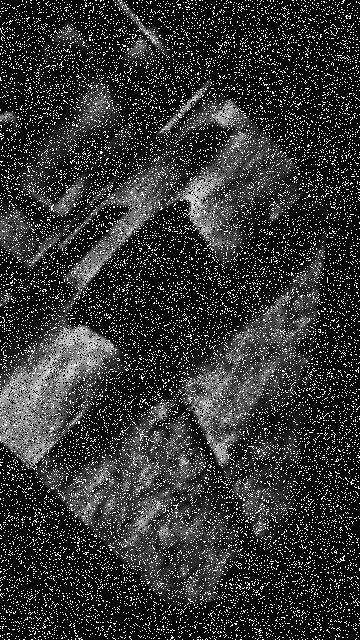pot: (68, 200, 230, 363)
